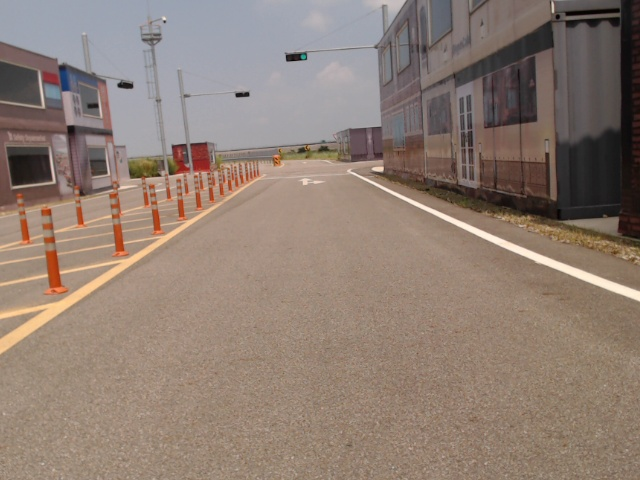green_3: (285, 52, 308, 61)
